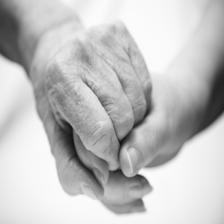Hand: (31, 14, 195, 210), (81, 4, 218, 218), (4, 3, 132, 206)
